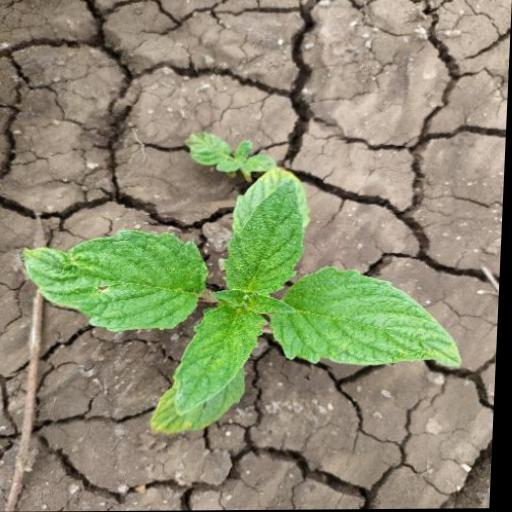crop: (15, 164, 480, 442)
